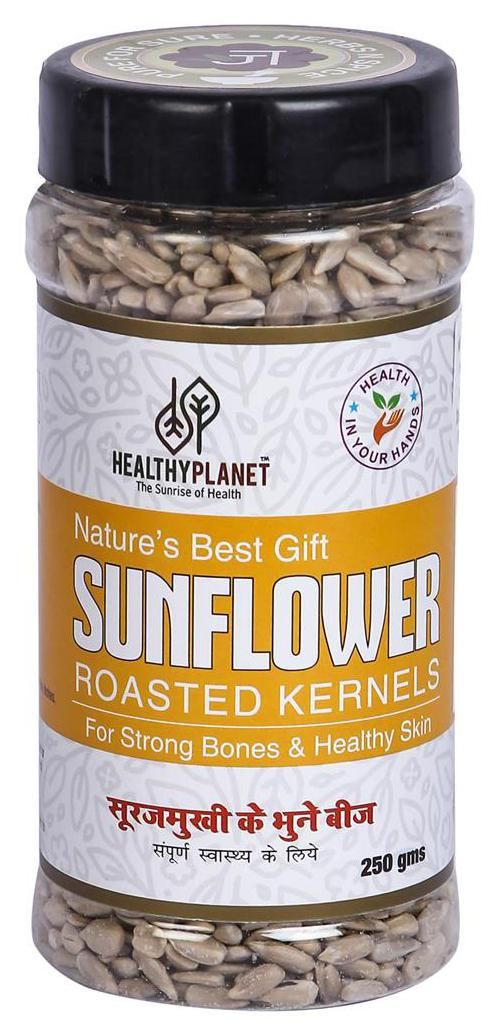JAR: (15, 20, 482, 1016)
